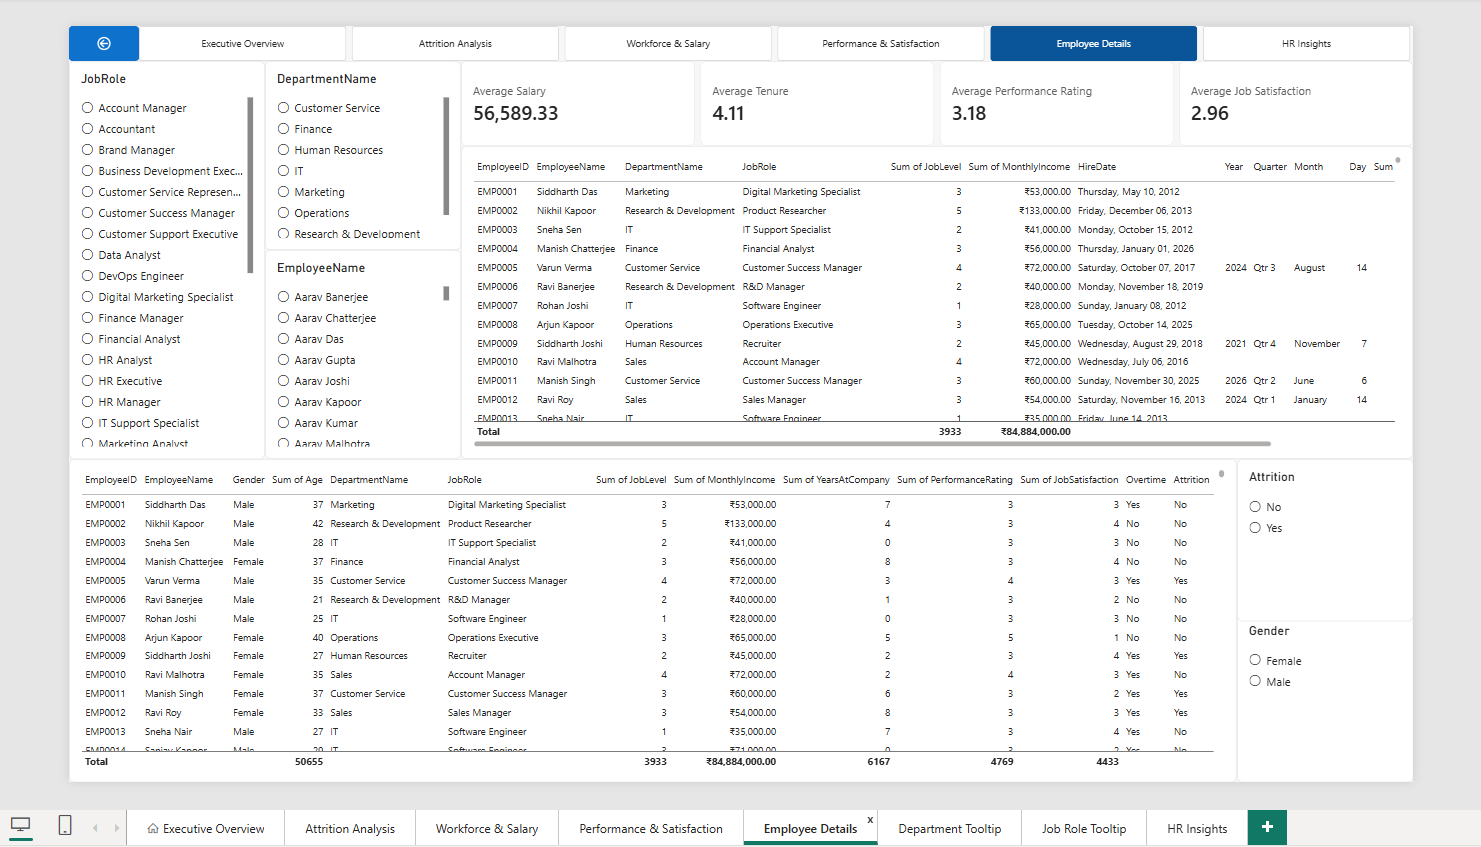

The page's visual inventory and layout, read from the dashboard file:
{"tool":"powerbi","page":{"name":"Employee Details","canvas":[1920,1080],"ordinal":4},"visuals":[{"type":"tableEx","fields":{"Values":["FactEmployee.EmployeeID","FactEmployee.EmployeeName","FactEmployee.Gender","Sum(FactEmployee.Age)","DimDepartment.DepartmentName","DimJobRole.JobRole","Sum(FactEmployee.JobLevel)","Sum(FactEmployee.MonthlyIncome)","Sum(FactEmployee.YearsAtCompany)","Sum(FactEmployee.PerformanceRating)","Sum(FactEmployee.JobSatisfaction)","FactEmployee.Overtime"]},"box":[0,618.3,1668.3,461.7],"z":0},{"type":"listSlicer","fields":{"Values":["FactEmployee.EmployeeName"]},"box":[280,320,280,298.3],"z":1000},{"type":"listSlicer","fields":{"Values":["DimDepartment.DepartmentName"]},"box":[280,50,280,270],"z":2000},{"type":"listSlicer","fields":{"Values":["DimJobRole.JobRole"]},"box":[0,50,280,568.6],"z":3000},{"type":"listSlicer","fields":{"Values":["FactEmployee.Gender"]},"box":[1668.3,838.3,251.7,241.7],"z":4000},{"type":"listSlicer","fields":{"Values":["FactEmployee.Attrition"]},"box":[1668.3,618.3,251.7,231.7],"z":5000},{"type":"cardVisual","fields":{"Data":["FactEmployee.Average Salary","FactEmployee.Average Tenure","FactEmployee.Average Performance Rating","FactEmployee.Average Job Satisfaction"]},"box":[560,50,1360,121.7],"z":6000},{"type":"tableEx","fields":{"Values":["FactEmployee.EmployeeID","FactEmployee.EmployeeName","DimDepartment.DepartmentName","DimJobRole.JobRole","Sum(FactEmployee.JobLevel)","Sum(FactEmployee.MonthlyIncome)","FactEmployee.HireDate","FactEmployee.ExitDate.Variation.Date Hierarchy.Year","FactEmployee.ExitDate.Variation.Date Hierarchy.Quarter","FactEmployee.ExitDate.Variation.Date Hierarchy.Month","FactEmployee.ExitDate.Variation.Date Hierarchy.Day","Sum(FactEmployee.PerformanceRating)"]},"box":[560,171.7,1360,446.7],"z":7000},{"type":"actionButton","box":[0,0,100,50],"z":8000},{"type":"pageNavigator","box":[100,0,1820,50],"z":9000}]}

Visuals, with their boxes on the page's 1920x1080 design canvas (x1, y1, x2, y2). These are canvas units, not pixel positions in the 1481x847 screenshot, which may show the page scaled, cropped or inside an application window:
tableEx - FactEmployee.EmployeeID x FactEmployee.EmployeeName: bbox(0, 618, 1668, 1080)
listSlicer - FactEmployee.EmployeeName: bbox(280, 320, 560, 618)
listSlicer - DimDepartment.DepartmentName: bbox(280, 50, 560, 320)
listSlicer - DimJobRole.JobRole: bbox(0, 50, 280, 619)
listSlicer - FactEmployee.Gender: bbox(1668, 838, 1920, 1080)
listSlicer - FactEmployee.Attrition: bbox(1668, 618, 1920, 850)
cardVisual - FactEmployee.Average Salary x FactEmployee.Average Tenure: bbox(560, 50, 1920, 172)
tableEx - FactEmployee.EmployeeID x FactEmployee.EmployeeName: bbox(560, 172, 1920, 618)
actionButton: bbox(0, 0, 100, 50)
pageNavigator: bbox(100, 0, 1920, 50)
